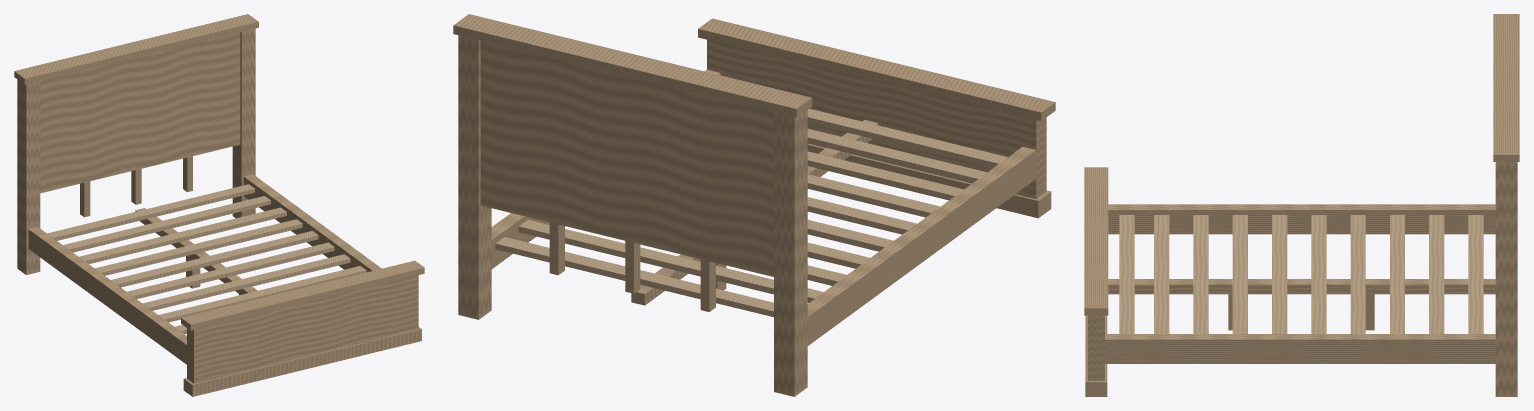
3 renders of one model, left to right at view 1: azimuth 30°, elevation 25°; view 2: azimuth 150°, elevation 25°; view 3: azimuth 270°, elevation 25°, orthographic. The views are drawn at different scales.
Parts seen in each view (by area): view 1: 1 headboard_panel, 8 footboard_panel, 11 left_side_rail, 3 headboard_left_post, 2 headboard_top_crown, 9 footboard_top_cap, 10 footboard_base_plinth, 4 headboard_right_post, 12 right_side_rail, 20 slat_5, 22 slat_7, 19 slat_4 (+8 smaller); view 2: 1 headboard_panel, 8 footboard_panel, 11 left_side_rail, 3 headboard_left_post, 2 headboard_top_crown, 9 footboard_top_cap, 4 headboard_right_post, 16 slat_1, 17 slat_2, 25 slat_10, 24 slat_9, 23 slat_8 (+10 smaller); view 3: 12 right_side_rail, 11 left_side_rail, 4 headboard_right_post, 2 headboard_top_crown, 13 center_support_rail, 9 footboard_top_cap, 16 slat_1, 17 slat_2, 19 slat_4, 20 slat_5, 21 slat_6, 22 slat_7 (+6 smaller).
Boxes of the visible parts, x1,y1,x2,y2 form: 1 headboard_panel: (40,32,240,193); 8 footboard_panel: (187,275,418,383); 11 left_side_rail: (28,227,186,364); 3 headboard_left_post: (17,79,40,274); 2 headboard_top_crown: (14,14,258,84); 9 footboard_top_cap: (181,260,424,330); 10 footboard_base_plinth: (183,327,421,396); 4 headboard_right_post: (232,28,255,218); 12 right_side_rail: (244,174,381,272); 20 slat_5: (111,231,318,287); 22 slat_7: (143,254,350,310); 19 slat_4: (95,219,302,275); 1 headboard_panel: (480,41,773,276); 8 footboard_panel: (707,39,1046,198); 11 left_side_rail: (807,146,1036,345); 3 headboard_left_post: (774,110,807,396); 2 headboard_top_crown: (453,14,812,117); 9 footboard_top_cap: (698,18,1055,120); 4 headboard_right_post: (458,35,491,319); 16 slat_1: (495,237,773,317); 17 slat_2: (518,220,823,302); 25 slat_10: (807,108,1007,167); 24 slat_9: (807,128,986,183); 23 slat_8: (807,151,963,200); 12 right_side_rail: (1105,334,1495,363); 11 left_side_rail: (1108,204,1495,234); 4 headboard_right_post: (1495,162,1517,396); 2 headboard_top_crown: (1493,14,1519,161); 13 center_support_rail: (1108,279,1495,294); 9 footboard_top_cap: (1084,167,1108,315); 16 slat_1: (1468,215,1483,333); 17 slat_2: (1429,215,1444,333); 19 slat_4: (1350,215,1365,333); 20 slat_5: (1311,215,1326,333); 21 slat_6: (1272,215,1287,333); 22 slat_7: (1232,215,1247,333).
Bounding box in the file's own units: 1.24 × 1 × 1.62.
Materials: 2 (2 with a texture image).
